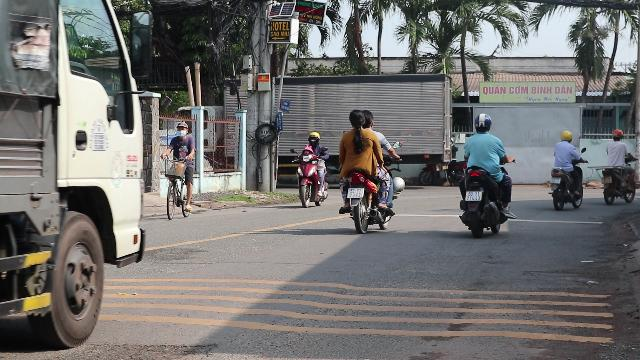helmet: (472, 114, 492, 132), (308, 131, 320, 145)
licenseplate: (466, 191, 482, 201), (348, 187, 362, 197)
motorcyclist: (336, 108, 400, 232), (454, 112, 514, 236), (294, 130, 330, 207)
nohelmet: (349, 110, 365, 130), (362, 110, 376, 130)
